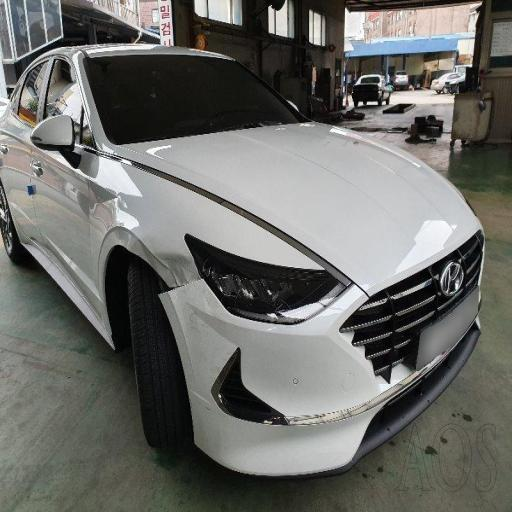broken: (140, 194, 272, 451), (258, 316, 407, 453)
dent: (77, 183, 144, 250)
